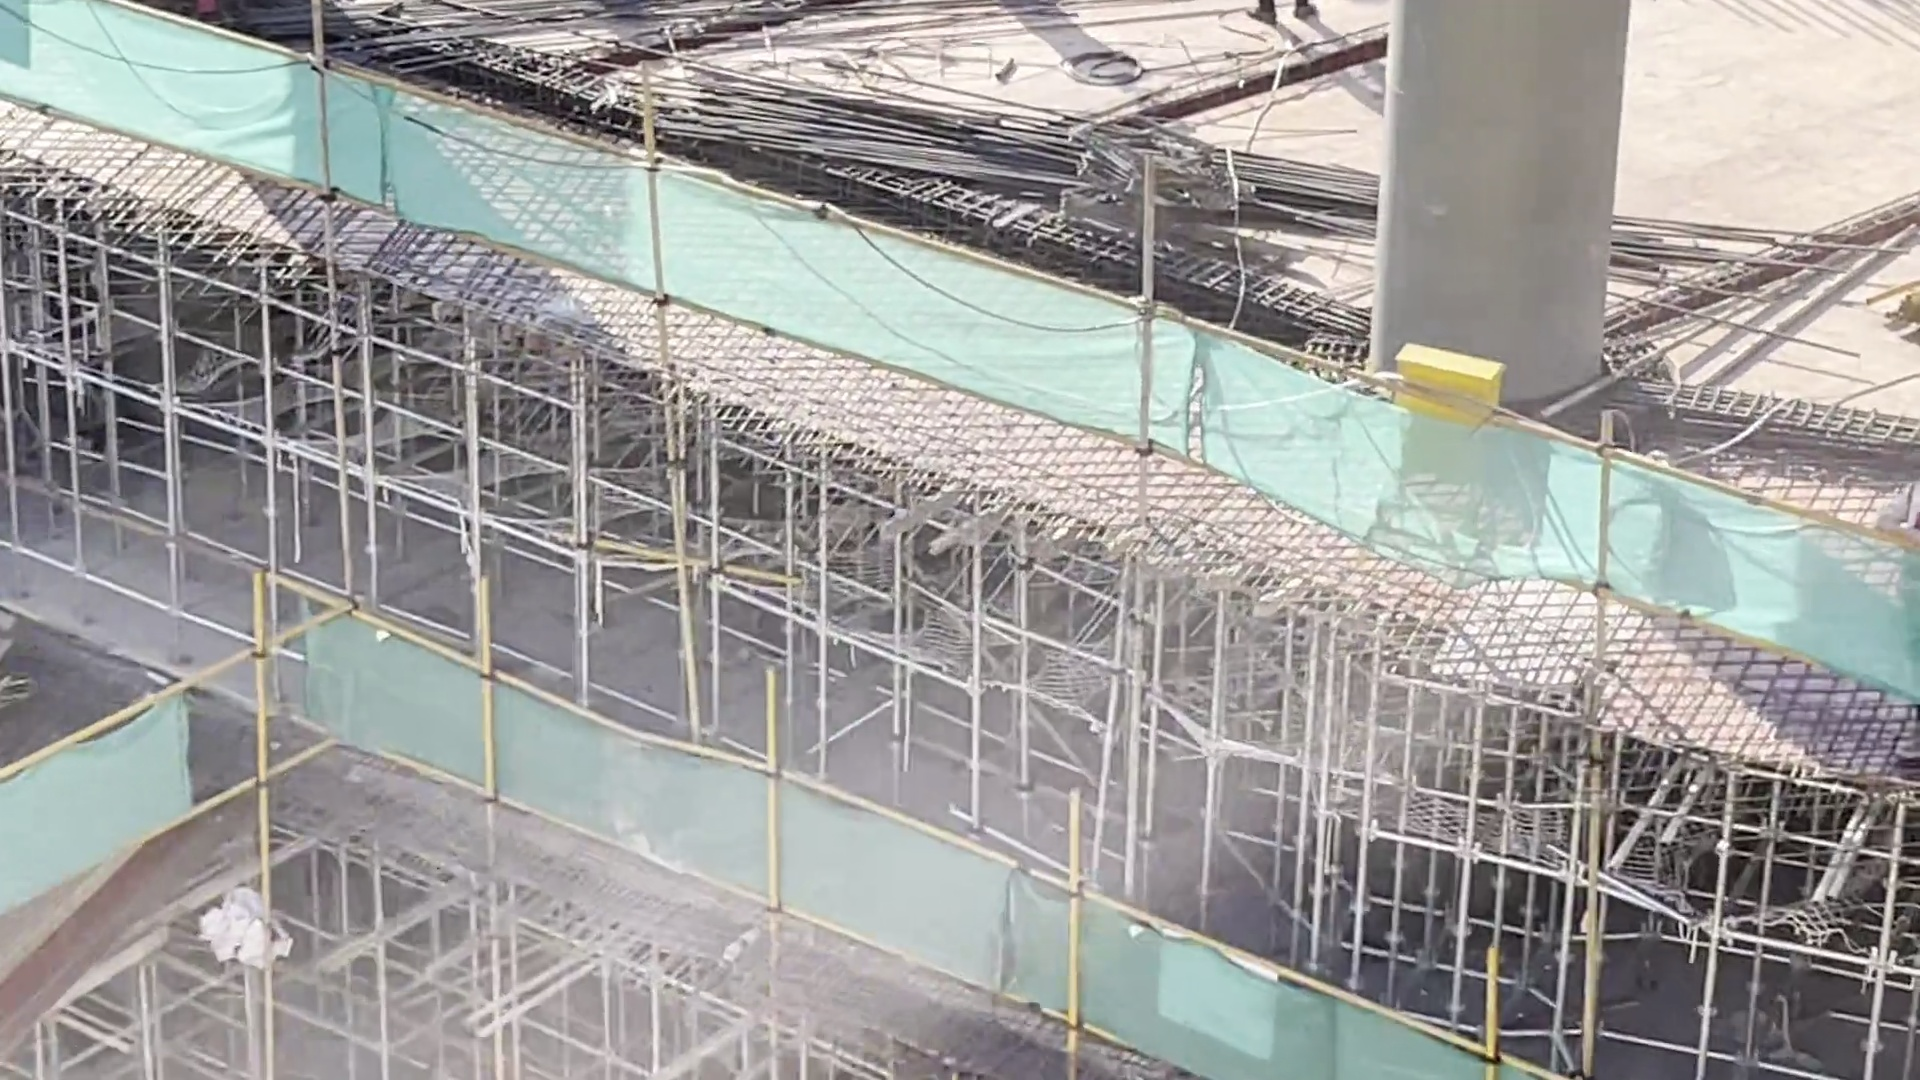ebox: (1389, 332, 1507, 506)
